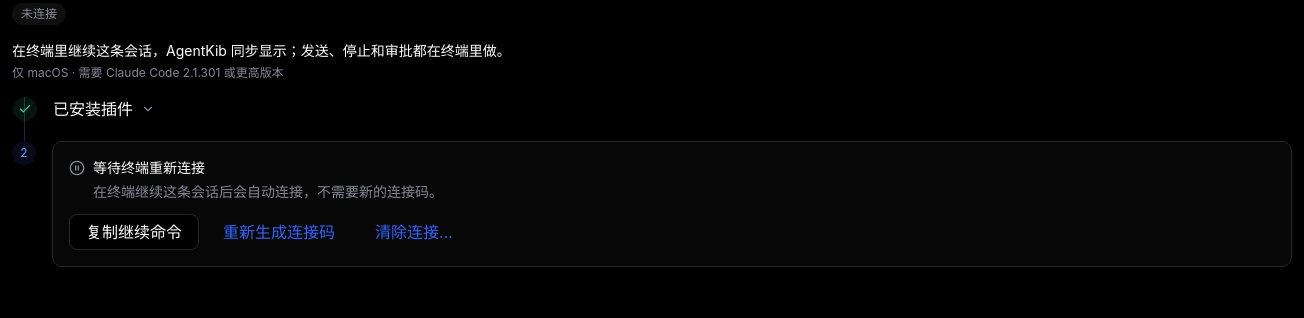
Test: Claude terminal connection management › reports a resume command clipboard failure without copying unvalidated content
This screenshot has width=1304, height=318.
Click the button "复制继续命令": (134, 232) [69,214,199,250]
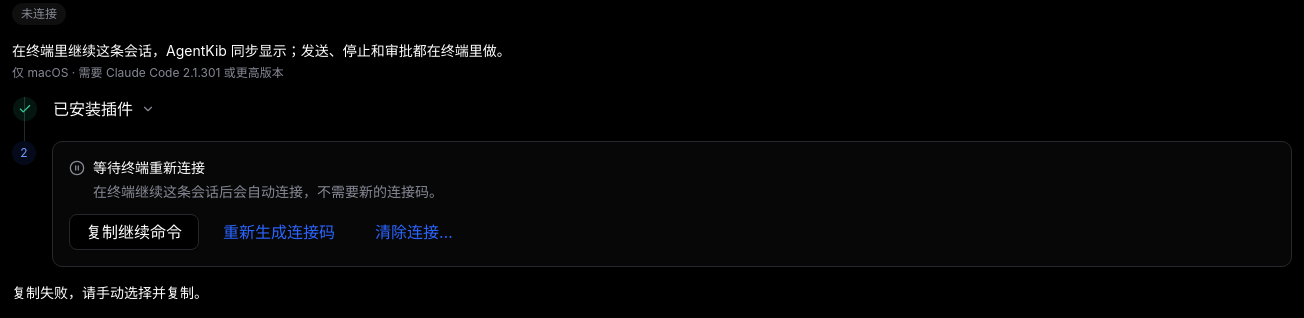
Check: the message "复制失败，请手动选择并复制。" is shown, box [12,284,208,301]
